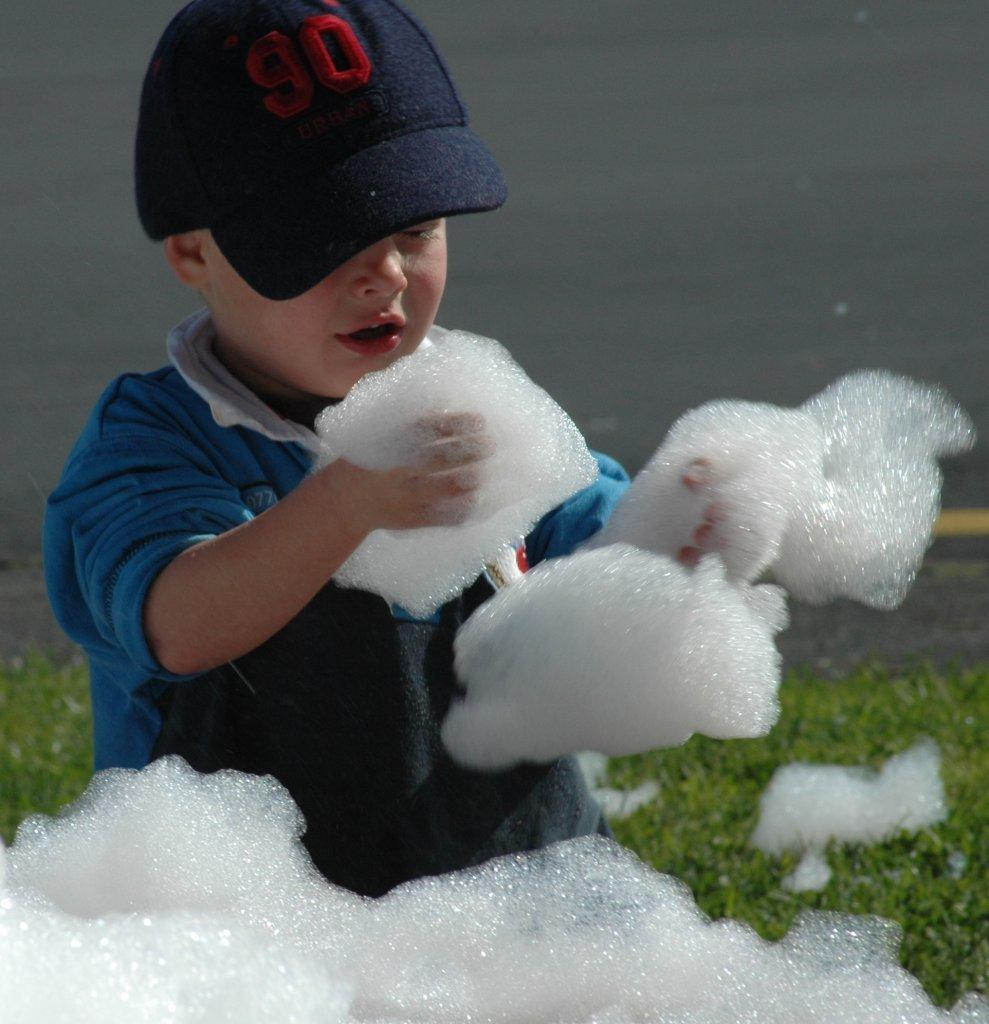Hat: (134, 0, 510, 300)
